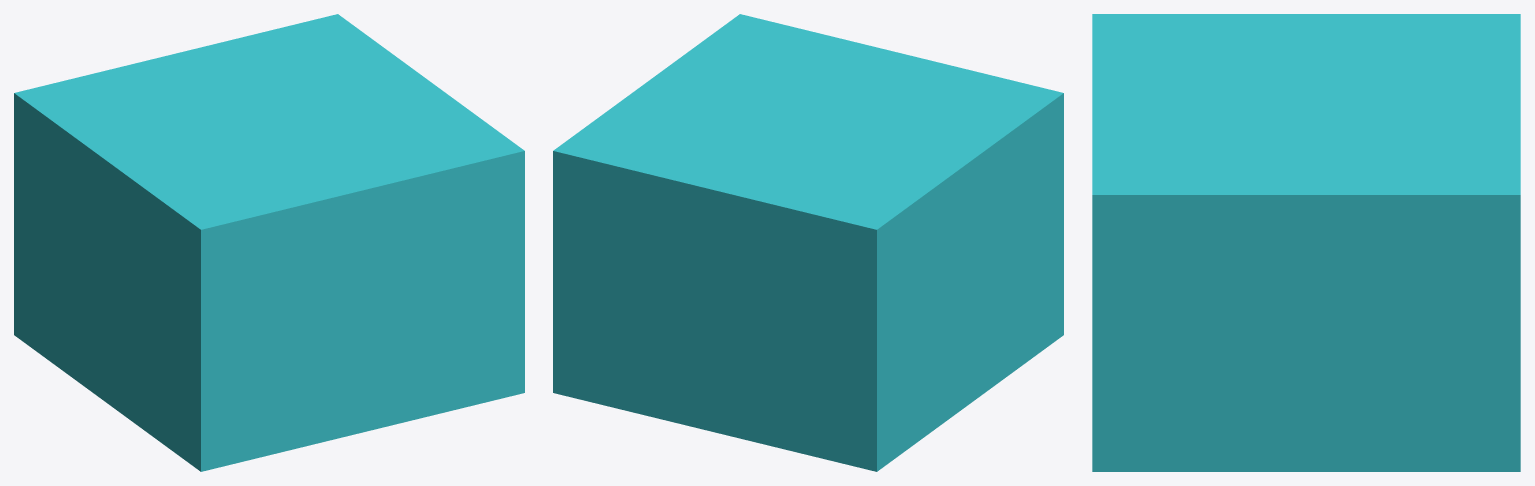
Rendered from physics_pusher.gltf.
3 renders of one model, left to right at view 1: azimuth 30°, elevation 25°; view 2: azimuth 150°, elevation 25°; view 3: azimuth 270°, elevation 25°, orthographic. The views are drawn at different scales.
Visible parts, largest first — view 1: KinematicPusher; view 2: KinematicPusher; view 3: KinematicPusher.
Part boxes in pixels (<box>): KinematicPusher: <box>14,14,524,471</box>; KinematicPusher: <box>553,14,1063,471</box>; KinematicPusher: <box>1092,14,1520,471</box>.
Size of the model in its own units: 1.4 by 1 by 1.4.
